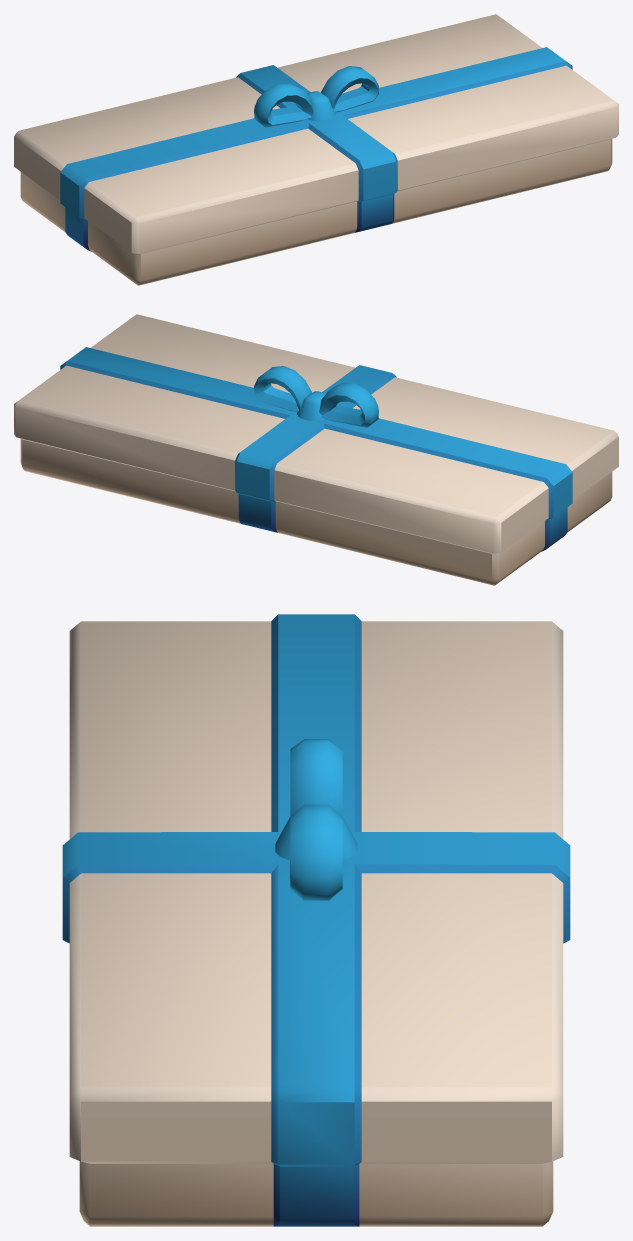
Rendered from present_F_white.fbx.
3 renders of one model, top to bottom at view 1: azimuth 30°, elevation 25°; view 2: azimuth 150°, elevation 25°; view 3: azimuth 270°, elevation 25°, orthographic. The views are drawn at different scales.
Parts seen in each view (by area): view 1: present_F_white; view 2: present_F_white; view 3: present_F_white.
Boxes of the visible parts, <box> form: present_F_white: <box>14,14,618,285</box>; present_F_white: <box>14,314,618,585</box>; present_F_white: <box>62,614,570,1226</box>.
Bounding box in the file's own units: 216 × 46.17 × 96.38.
